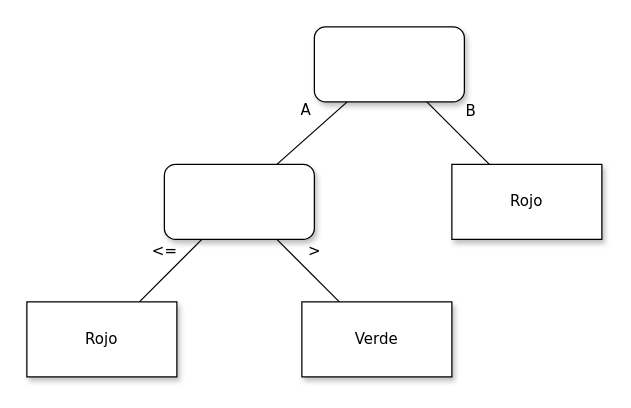
Some shapes in this 631 by 408 pixel diagram are drawn without their labels. Here are the shapes that lost their labels. From the top down, the centre of each, then its label:
[390,66]: Atributo: X
[240,203]: Atributo: Y Umbral = 0.5
